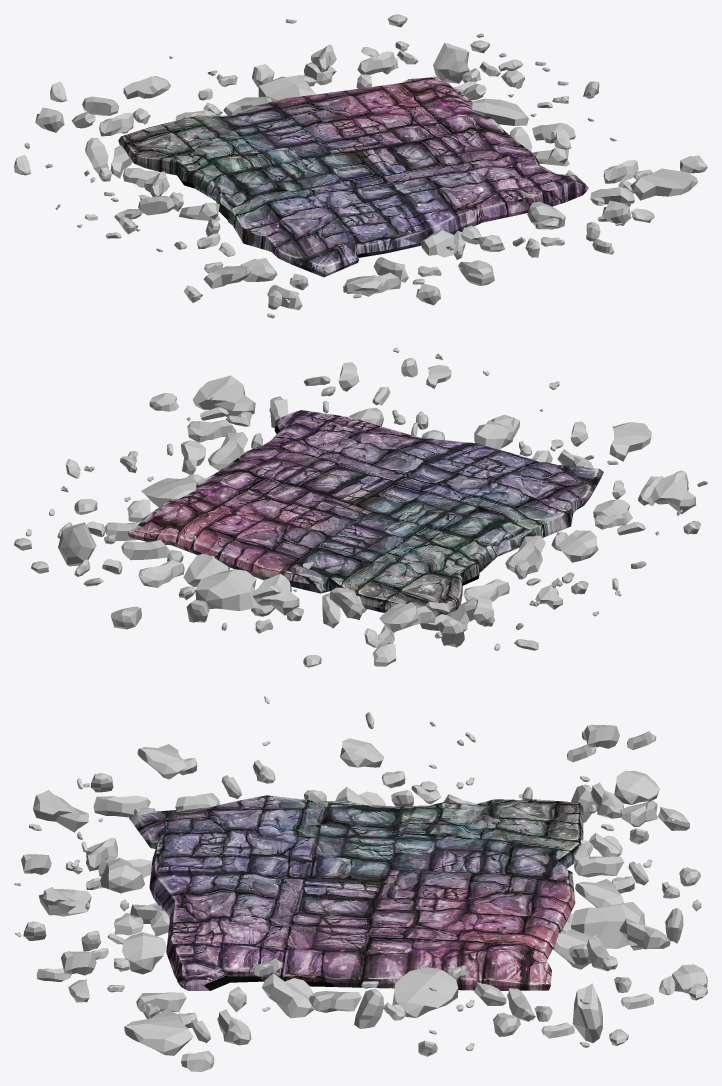
The model's file is platform_2.fbx.
3 views of the same model, one above another, from view 1: azimuth 30°, elevation 25°; view 2: azimuth 150°, elevation 25°; view 3: azimuth 270°, elevation 25° (orthographic). The views are drawn at different scales.
Parts seen in each view (by area): view 1: platform:pCube1, pSphere57, pSphere60, pSphere67, pSphere19, pSphere47, pSphere2, pSphere83, pSphere7, pSphere9, pSphere30, pSphere81 (+14 smaller); view 2: platform:pCube1, pSphere19, pSphere57, pSphere60, pSphere83, pSphere9, pSphere67, pSphere25, pSphere99, pSphere73, pSphere85, pSphere2 (+11 smaller); view 3: platform:pCube1, pSphere67, pSphere19, pSphere57, pSphere73, pSphere10, pSphere9, pSphere60, pSphere35, pSphere2, pSphere83, pSphere99 (+17 smaller).
Boxes of the visible parts, x1,y1,x2,y2 form: platform:pCube1: [118, 76, 588, 277]; pSphere57: [630, 168, 697, 200]; pSphere60: [433, 42, 469, 83]; pSphere67: [469, 98, 528, 125]; pSphere19: [258, 75, 315, 101]; pSphere47: [123, 76, 170, 99]; pSphere2: [420, 230, 458, 257]; pSphere83: [203, 266, 252, 288]; pSphere7: [458, 260, 494, 285]; pSphere9: [343, 275, 381, 294]; pSphere30: [357, 51, 394, 74]; pSphere81: [240, 258, 277, 281]; platform:pCube1: [128, 410, 603, 623]; pSphere19: [195, 569, 257, 611]; pSphere57: [192, 375, 255, 417]; pSphere60: [58, 522, 96, 566]; pSphere83: [650, 472, 695, 514]; pSphere9: [609, 422, 651, 461]; pSphere67: [141, 477, 196, 507]; pSphere25: [253, 573, 299, 615]; pSphere99: [558, 530, 598, 562]; pSphere73: [208, 432, 247, 470]; pSphere85: [505, 535, 545, 573]; pSphere2: [474, 420, 514, 449]; platform:pCube1: [129, 795, 583, 990]; pSphere67: [392, 967, 458, 1017]; pSphere19: [570, 902, 645, 948]; pSphere57: [124, 1009, 193, 1055]; pSphere73: [262, 973, 314, 1018]; pSphere10: [122, 932, 166, 974]; pSphere9: [33, 790, 88, 832]; pSphere60: [572, 983, 602, 1042]; pSphere35: [614, 770, 659, 804]; pSphere2: [100, 857, 144, 893]; pSphere83: [137, 744, 186, 779]; pSphere99: [340, 738, 383, 767].
Bounding box in the file's own units: 31.73 × 4.81 × 28.78.
